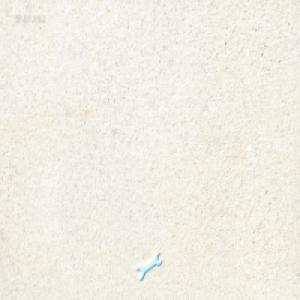Wrench: (137, 252, 161, 281)
